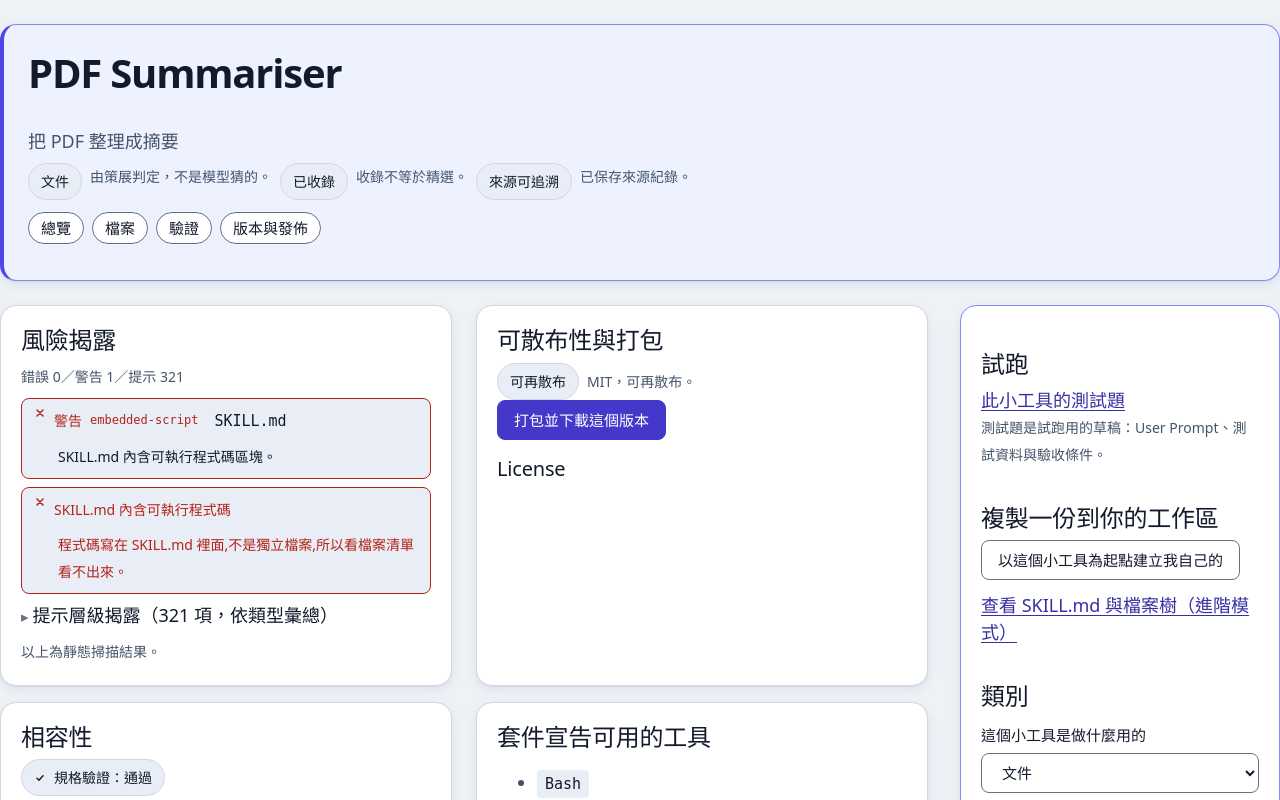
Scenario: 複製一份收到伺服器錯誤時保留結果的不確定性
The image size is (1280, 800).
Click the button "以這個小工具為起點建立我自己的": coordinates (1110, 560) 981,540 -> 1240,580
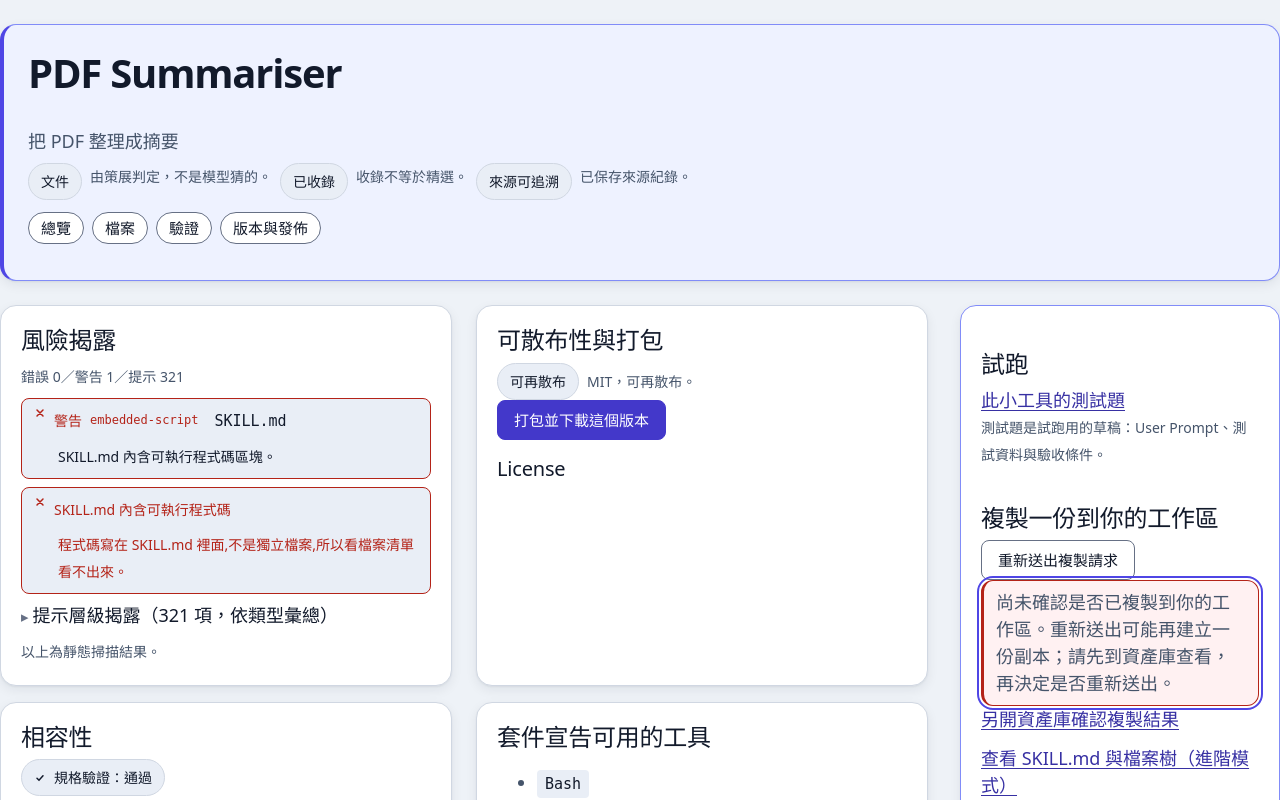
Expected: the text "尚未確認是否已複製到你的工作區。" is shown, 996,590 -> 1230,695
